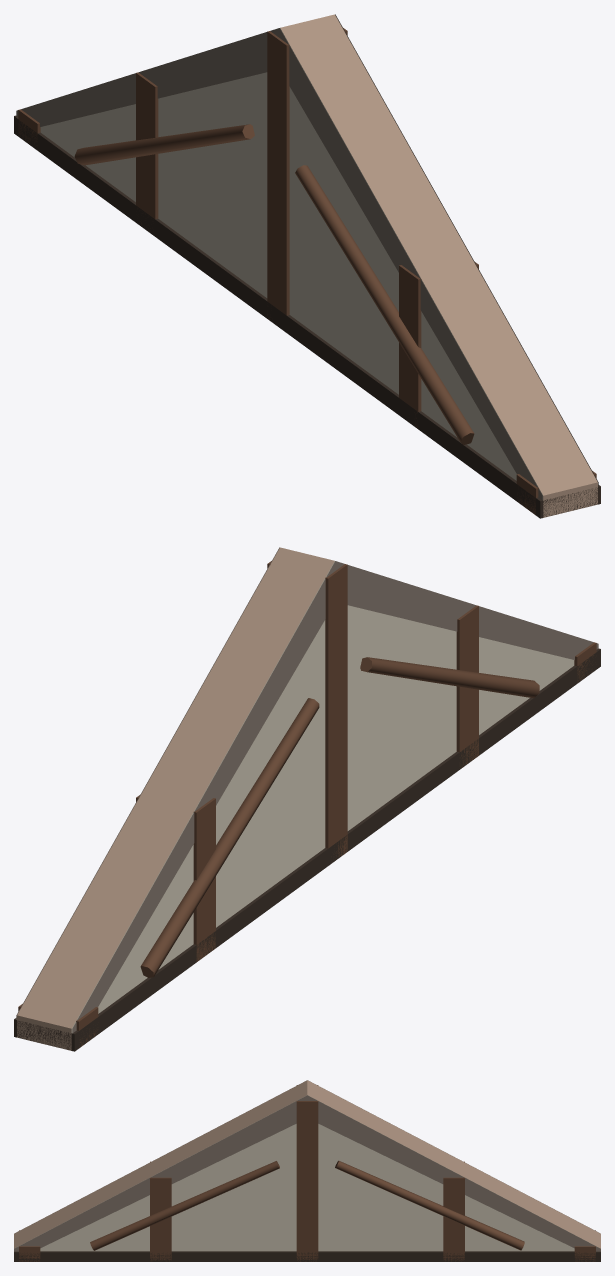
Rendered from Wall_GableRidgeFill_30_Right.glb.
3 renders of one model, top to bottom at view 1: azimuth 30°, elevation 25°; view 2: azimuth 150°, elevation 25°; view 3: azimuth 270°, elevation 25°, orthographic. The views are drawn at different scales.
Visible parts, largest first — view 1: _MeshInstance3D_4014, _MeshInstance3D_4015, _MeshInstance3D_4018, _MeshInstance3D_4023, _MeshInstance3D_4021, _MeshInstance3D_4017, _MeshInstance3D_4019; view 2: _MeshInstance3D_4014, _MeshInstance3D_4015, _MeshInstance3D_4018, _MeshInstance3D_4021, _MeshInstance3D_4023, _MeshInstance3D_4019, _MeshInstance3D_4017; view 3: _MeshInstance3D_4014, _MeshInstance3D_4015, _MeshInstance3D_4018, _MeshInstance3D_4024, _MeshInstance3D_4022, _MeshInstance3D_4017, _MeshInstance3D_4019, _MeshInstance3D_4020, _MeshInstance3D_4016.
Part boxes in pixels (box(x1,y1,x2,y2)): _MeshInstance3D_4014: box(16, 14, 598, 517); _MeshInstance3D_4015: box(14, 115, 600, 518); _MeshInstance3D_4018: box(267, 28, 347, 319); _MeshInstance3D_4023: box(295, 165, 474, 444); _MeshInstance3D_4021: box(74, 124, 254, 165); _MeshInstance3D_4017: box(136, 72, 158, 232); _MeshInstance3D_4019: box(399, 261, 478, 428); _MeshInstance3D_4014: box(16, 547, 598, 1050); _MeshInstance3D_4015: box(14, 648, 600, 1051); _MeshInstance3D_4018: box(267, 561, 347, 859); _MeshInstance3D_4021: box(140, 698, 319, 977); _MeshInstance3D_4023: box(360, 657, 539, 698); _MeshInstance3D_4019: box(456, 605, 478, 767); _MeshInstance3D_4017: box(136, 794, 215, 961); _MeshInstance3D_4014: box(14, 1080, 600, 1251); _MeshInstance3D_4015: box(14, 1251, 600, 1261); _MeshInstance3D_4018: box(296, 1085, 318, 1261); _MeshInstance3D_4024: box(90, 1161, 279, 1250); _MeshInstance3D_4022: box(335, 1160, 524, 1250); _MeshInstance3D_4017: box(443, 1161, 464, 1261); _MeshInstance3D_4019: box(150, 1161, 171, 1261); _MeshInstance3D_4020: box(19, 1230, 40, 1261); _MeshInstance3D_4016: box(574, 1230, 595, 1261).
Size of the model in its own units: 0.2607 by 0.936 by 3.
